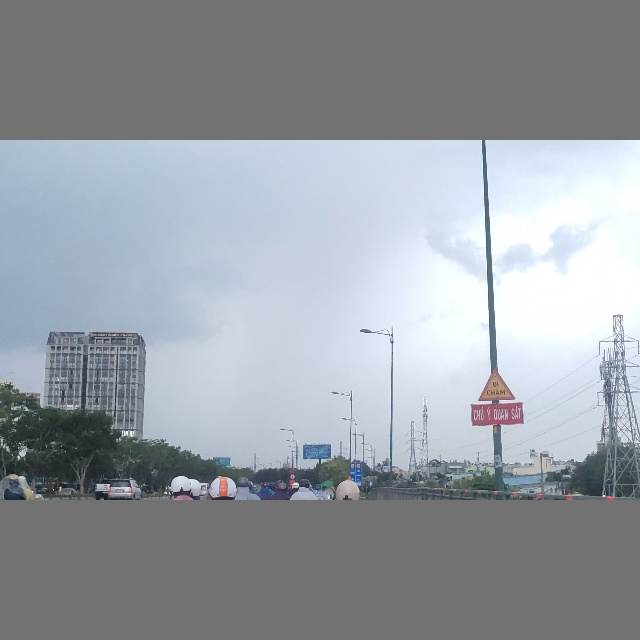W.245a: (477, 366, 517, 402)
